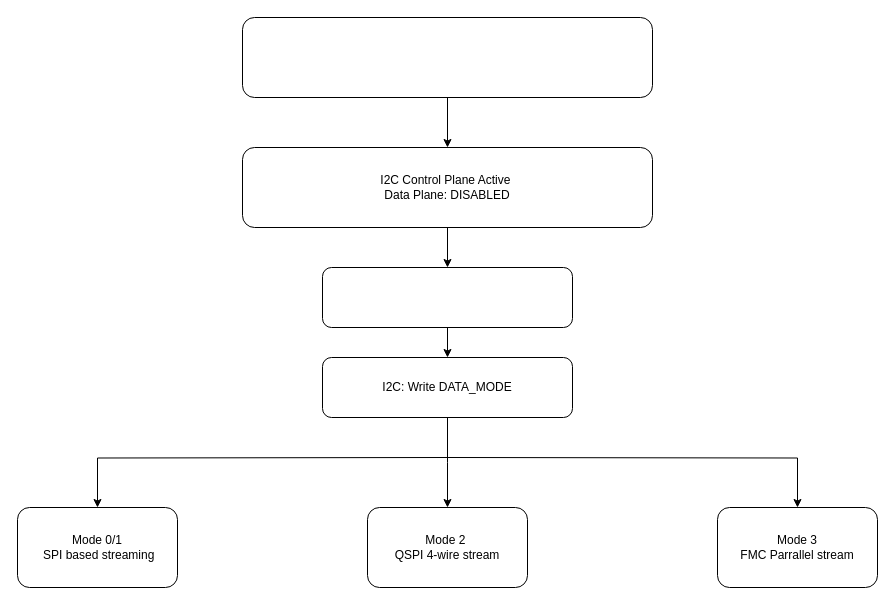
The diagram is 895 pixels wide and 605 high, and some of its shapes have lost their labels. The centre of each missing label's shape, as x and y in pixels:
"I2C: Read LINK_CAPS" goes at point (447, 297).
"POWER ON / RESET" goes at point (447, 57).
